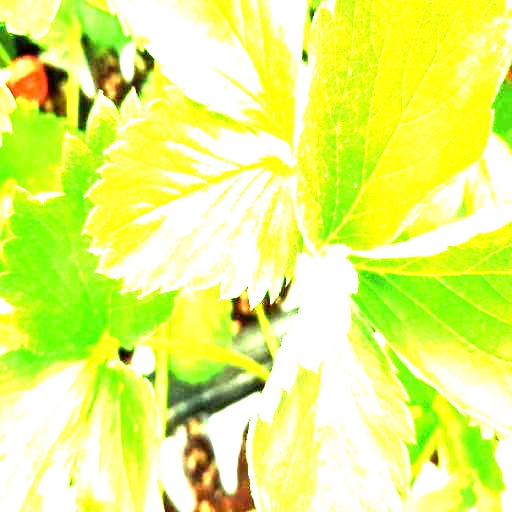Powdery Mildew Leaf: (245, 244, 416, 511), (346, 204, 511, 442)
